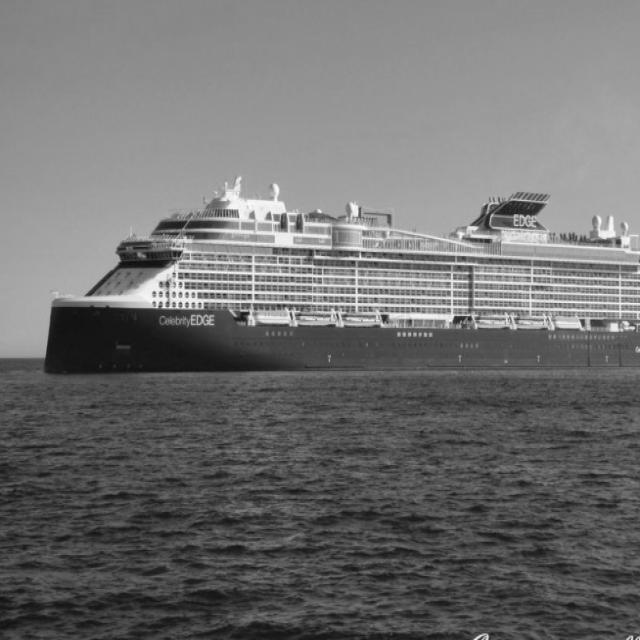cruises: (42, 169, 640, 383)
